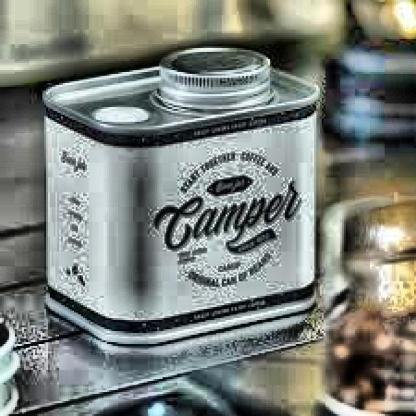Can: (40, 42, 328, 356)
